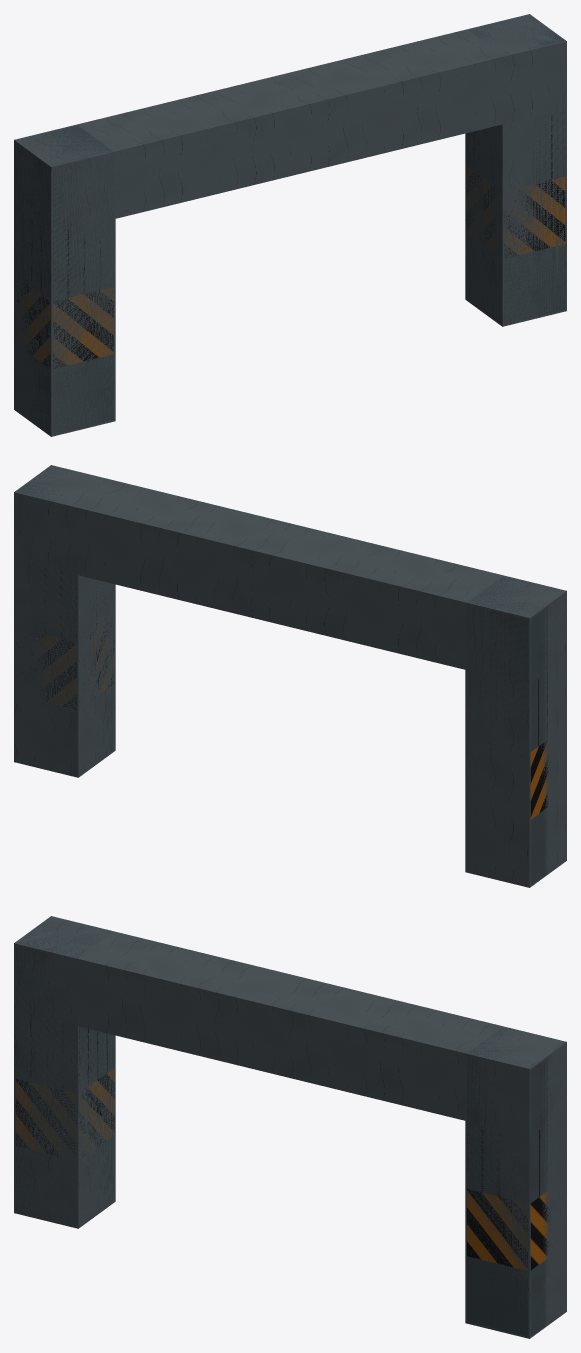
The model's file is Wall_WideDoor8.fbx.
The picture shows the model from 3 angles, top to bottom: view 1: azimuth 30°, elevation 25°; view 2: azimuth 150°, elevation 25°; view 3: azimuth 330°, elevation 25°; orthographic projection.
Visible parts, largest first — view 1: COL_Foundry_Wall_WideDoor8_02_Both, COL_Foundry_Wall_WideDoor8_00_Both, ENV_Foundry_Wall_WideDoor8_LOD0, COL_Foundry_Wall_WideDoor8_01_Both; view 2: COL_Foundry_Wall_WideDoor8_02_Both, COL_Foundry_Wall_WideDoor8_01_Both, COL_Foundry_Wall_WideDoor8_00_Both, ENV_Foundry_Wall_WideDoor8_LOD0; view 3: COL_Foundry_Wall_WideDoor8_02_Both, ENV_Foundry_Wall_WideDoor8_LOD0, COL_Foundry_Wall_WideDoor8_00_Both, COL_Foundry_Wall_WideDoor8_01_Both.
Part boxes in pixels (<box>): COL_Foundry_Wall_WideDoor8_02_Both: <box>79,30,502,218</box>; COL_Foundry_Wall_WideDoor8_00_Both: <box>14,124,115,436</box>; ENV_Foundry_Wall_WideDoor8_LOD0: <box>15,16,565,433</box>; COL_Foundry_Wall_WideDoor8_01_Both: <box>465,14,566,326</box>; COL_Foundry_Wall_WideDoor8_02_Both: <box>78,481,501,669</box>; COL_Foundry_Wall_WideDoor8_01_Both: <box>14,465,115,777</box>; COL_Foundry_Wall_WideDoor8_00_Both: <box>465,575,566,887</box>; ENV_Foundry_Wall_WideDoor8_LOD0: <box>15,466,559,885</box>; COL_Foundry_Wall_WideDoor8_02_Both: <box>78,932,501,1120</box>; ENV_Foundry_Wall_WideDoor8_LOD0: <box>15,917,551,1336</box>; COL_Foundry_Wall_WideDoor8_00_Both: <box>14,916,115,1228</box>; COL_Foundry_Wall_WideDoor8_01_Both: <box>465,1026,566,1338</box>.
Size of what is drawn, in the model's own units: 8 by 4 by 1.
